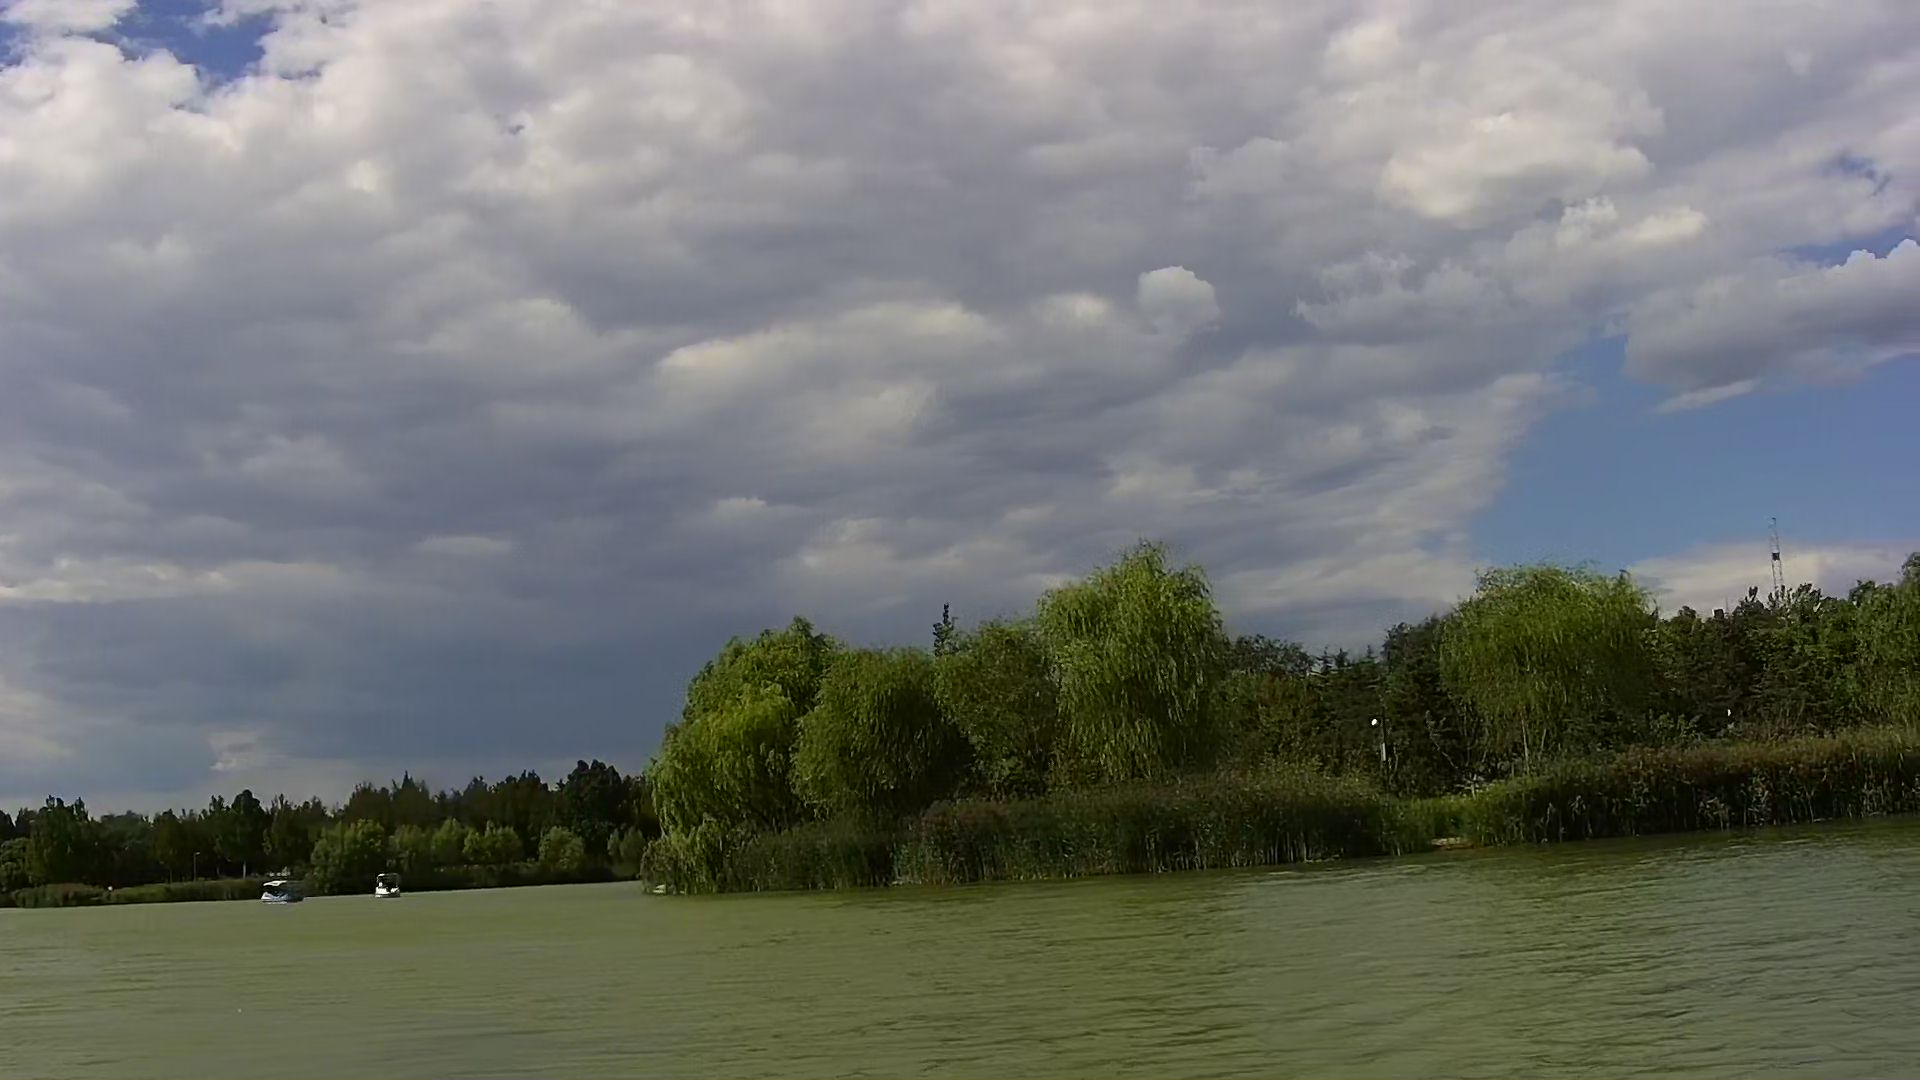boat: (257, 880, 307, 907), (372, 870, 405, 905)
